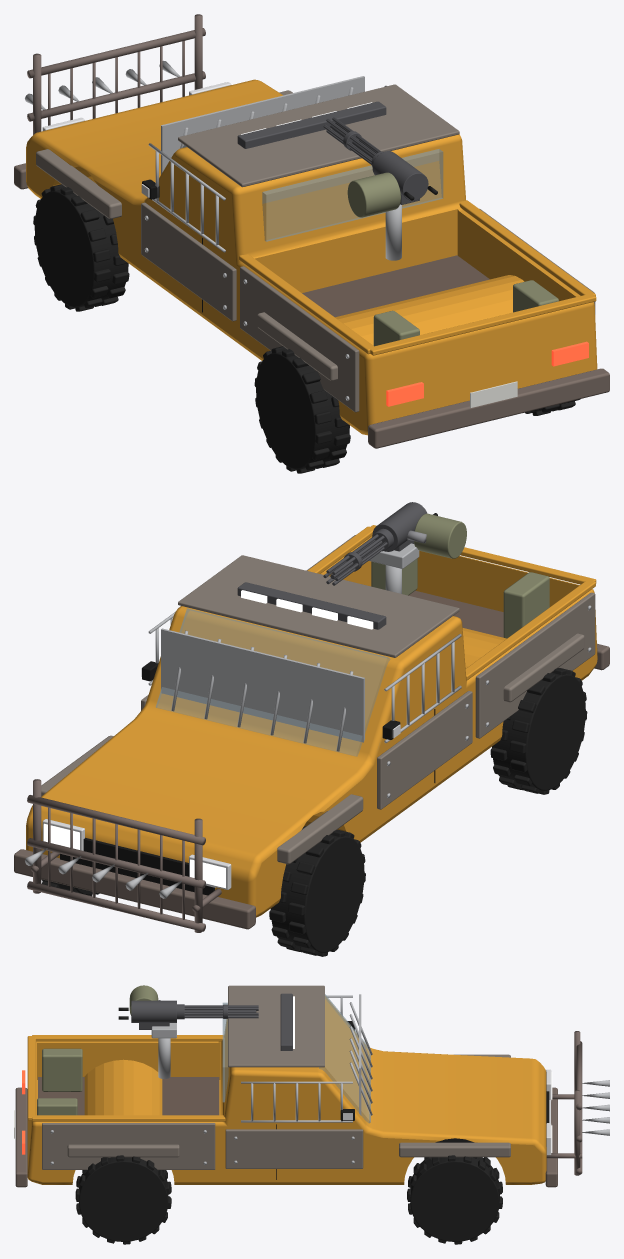
Rendered from pickup2.glb.
3 views of the same model, one above another, from view 1: azimuth 30°, elevation 25°; view 2: azimuth 150°, elevation 25°; view 3: azimuth 270°, elevation 25° (orthographic). The views are drawn at different scales.
Parts seen in each view (by area): view 1: body, roof_plate, tire, tire.001, rear_glass, bumper_r, plate.003, plate.001, bed_floor, ws_cage, minigun, lightbar (+17 smaller); view 2: body, ws_cage, roof_plate, windshield, tire, tire.001, plate.003, plate.001, bumper_f, minigun, jerrycan, grille (+17 smaller); view 3: body, tire.002, roof_plate, tire.003, plate.004, plate.002, windshield, bed_floor, minigun, jerrycan, fender.002, fender.003 (+13 smaller).
Boxes of the visible parts, x1,y1,x2,y2 form: body: (26,79,597,435); roof_plate: (178,84,459,187); tire: (33,184,129,311); tire.001: (254,346,350,473); rear_glass: (262,149,443,241); bumper_r: (368,368,609,448); plate.003: (240,266,359,412); plate.001: (141,202,236,321); bed_floor: (302,255,489,317); ws_cage: (161,76,364,174); minigun: (323,117,428,204); lightbar: (237,101,386,148); body: (26,536,597,917); ws_cage: (161,628,364,742); roof_plate: (178,555,459,657); windshield: (155,608,390,756); tire: (269,826,365,956); tire.001: (490,668,587,794); plate.003: (475,592,595,738); plate.001: (377,691,472,809); bumper_f: (14,849,255,929); minigun: (323,502,427,585); jerrycan: (503,572,549,638); grille: (60,837,214,895); body: (27,996,546,1184); tire.002: (407,1155,502,1244); roof_plate: (228,985,324,1067); tire.003: (75,1155,171,1244); plate.004: (42,1123,215,1169); plate.002: (225,1129,363,1168); windshield: (319,994,370,1123); bed_floor: (38,1077,219,1115); minigun: (131,1000,258,1029); jerrycan: (42,1048,82,1091); fender.002: (399,1142,510,1157); fender.003: (67,1144,179,1157).
Size of the model in its own units: 2.3 by 2.1 by 5.85.
